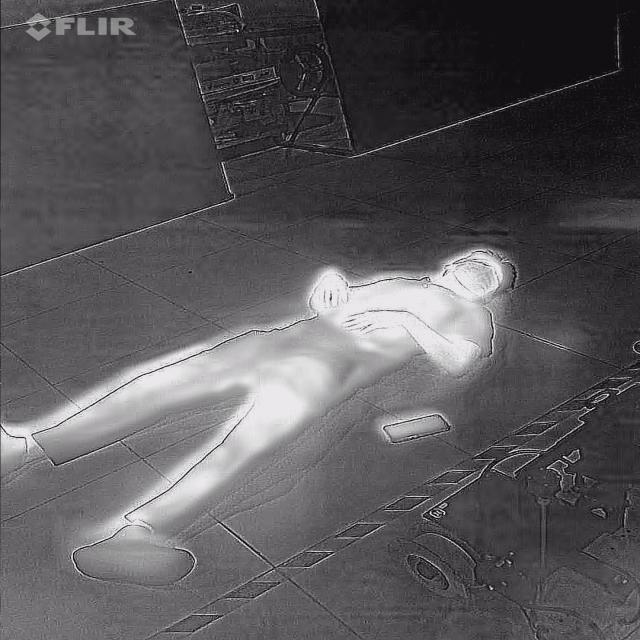Victim: (0, 243, 524, 593)
